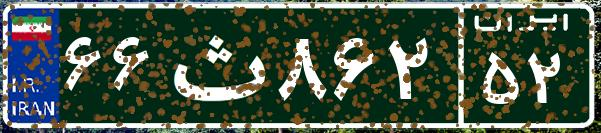2: (385, 28, 445, 110), (525, 38, 570, 115)
5: (475, 38, 525, 113)
6: (330, 28, 385, 110), (57, 26, 110, 107), (110, 28, 158, 105)
8: (273, 28, 330, 110)
ث: (158, 15, 273, 115)
